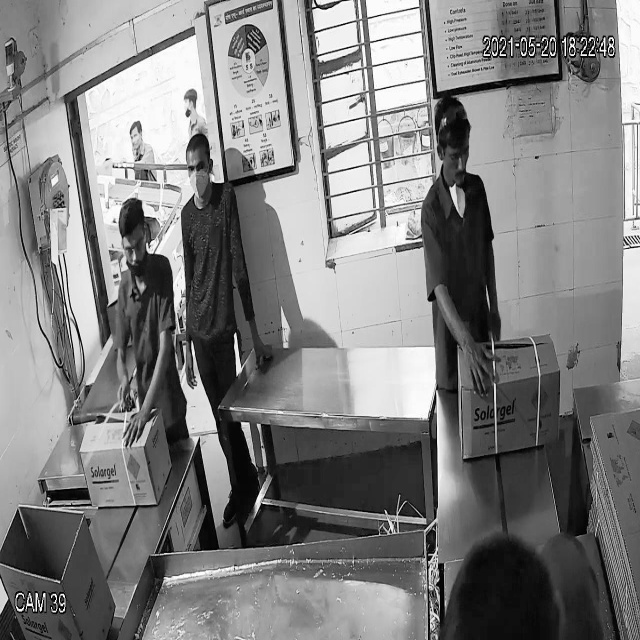Gafas: (116, 232, 151, 260)
Sin_gafas: (431, 138, 476, 165), (183, 156, 211, 177)
